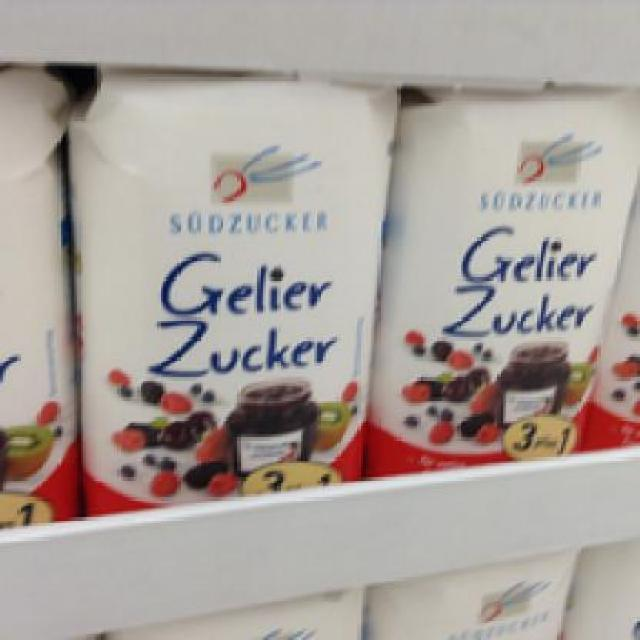Sugar: (62, 66, 395, 512), (354, 82, 634, 468)
